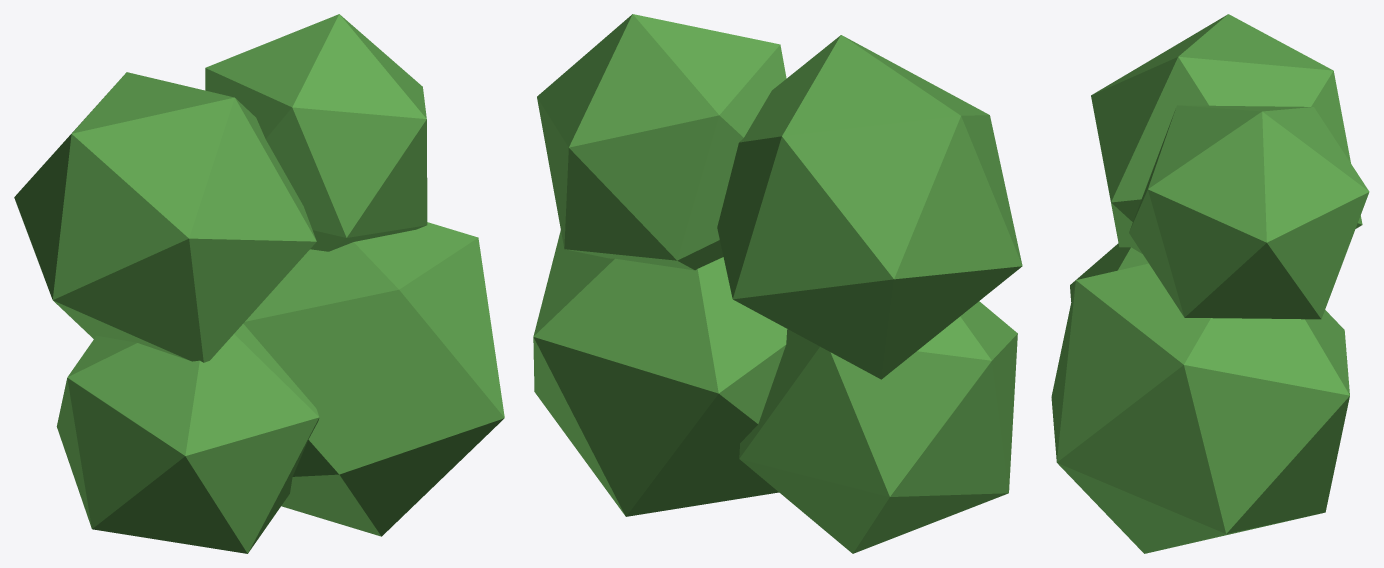
Rendered from bush-3-temperate.glb.
3 renders of one model, left to right at view 1: azimuth 30°, elevation 25°; view 2: azimuth 150°, elevation 25°; view 3: azimuth 270°, elevation 25°, orthographic. The views are drawn at different scales.
Visible parts, largest first — view 1: Icosphere.008_0; view 2: Icosphere.008_0; view 3: Icosphere.008_0.
Part boxes in pixels (<box>): Icosphere.008_0: <box>14,14,504,553</box>; Icosphere.008_0: <box>533,14,1022,553</box>; Icosphere.008_0: <box>1051,14,1369,553</box>.
Size of the model in its own units: 3.24 by 3.38 by 2.16.
